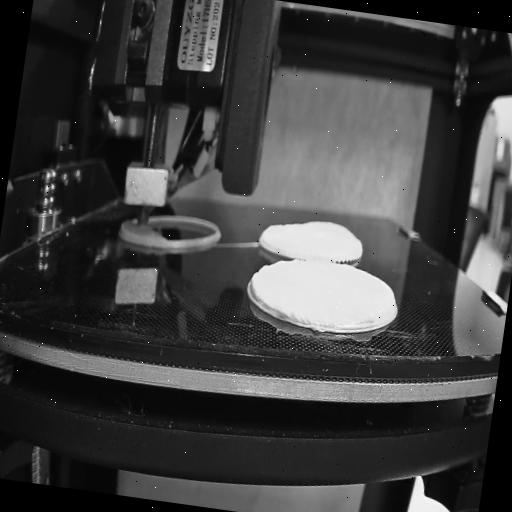over_extrusion: (244, 267, 270, 304)
